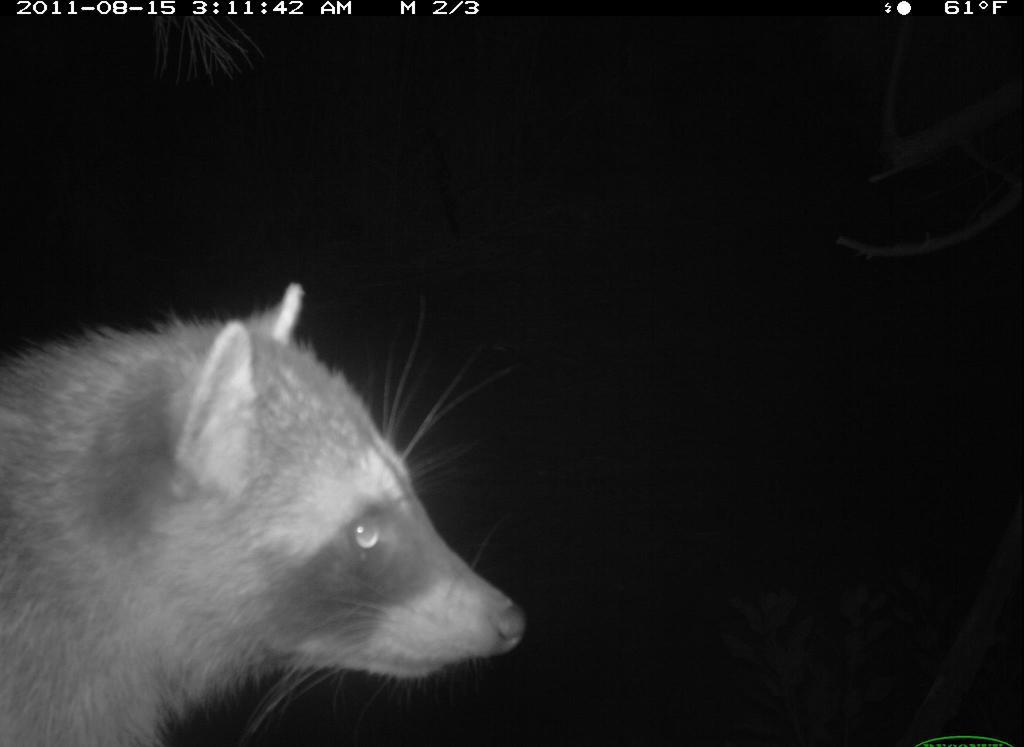raccoon: (2, 260, 550, 747)
